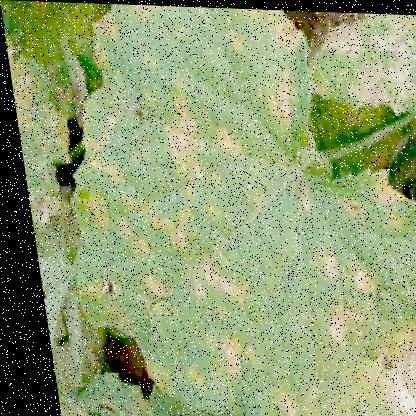Anthracnose: (47, 1, 318, 246), (154, 195, 415, 415)
